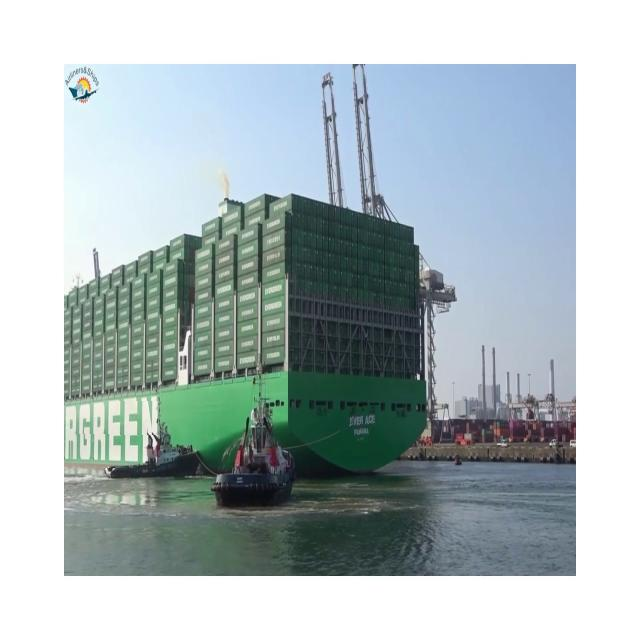OCR: (68, 383, 160, 468), (348, 405, 380, 446)
